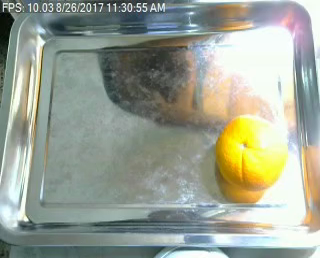Orange: (215, 114, 287, 187)
